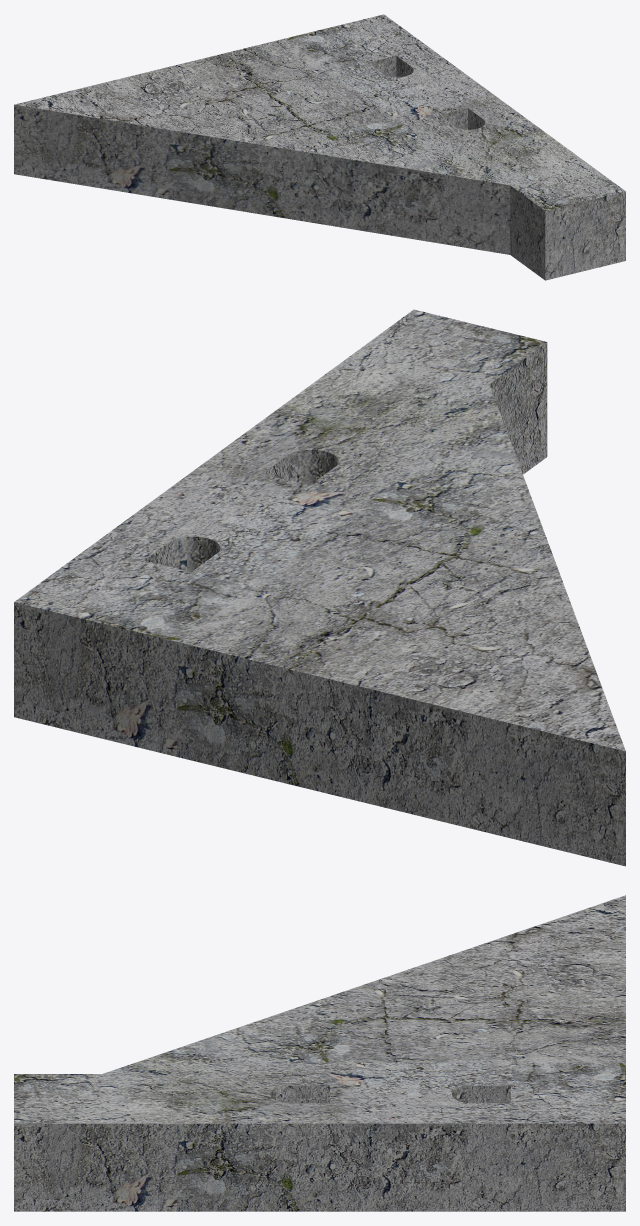
File: baduan_result-0.glb
The picture shows the model from 3 angles, top to bottom: view 1: azimuth 30°, elevation 25°; view 2: azimuth 150°, elevation 25°; view 3: azimuth 270°, elevation 25°; orthographic projection. The views are drawn at different scales.
Parts seen in each view (by area): view 1: 2017332375440_1; view 2: 2017332375440_1; view 3: 2017332375440_1.
Part boxes in pixels (bbox=[...]): 2017332375440_1: bbox=[14, 14, 625, 280]; 2017332375440_1: bbox=[14, 309, 625, 866]; 2017332375440_1: bbox=[14, 895, 625, 1211].
Bounding box in the file's own units: 2.78 × 0.5 × 3.15.
1 material, 1 textured.
